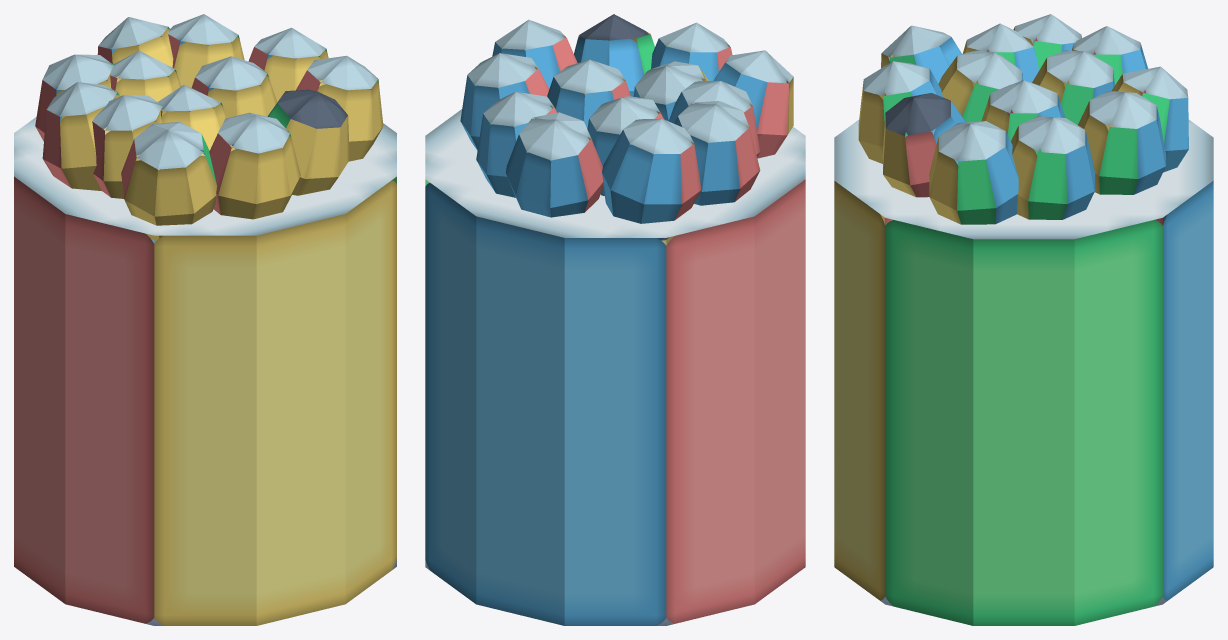
The model's file is swab_container.obj.
3 renders of one model, left to right at view 1: azimuth 30°, elevation 25°; view 2: azimuth 150°, elevation 25°; view 3: azimuth 270°, elevation 25°, orthographic.
Visible parts, largest first — view 1: cylinder, sphere; view 2: cylinder, sphere; view 3: cylinder, sphere.
Boxes of the visible parts, x1,y1,x2,y2 form: cylinder: [14, 117, 396, 625]; sphere: [35, 14, 383, 241]; cylinder: [425, 109, 805, 625]; sphere: [460, 14, 793, 240]; cylinder: [834, 119, 1213, 625]; sphere: [858, 14, 1188, 224].
Bounding box in the file's own units: 1 × 1.39 × 1.
Materials: 1 (1 with a texture image).
